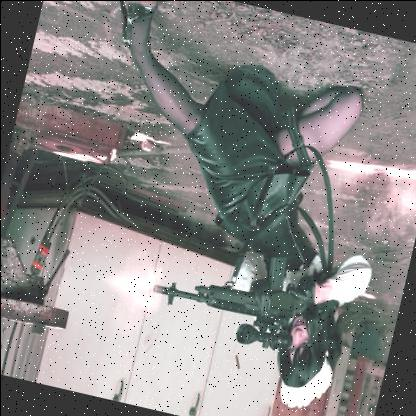rifle: (141, 232, 336, 353)
